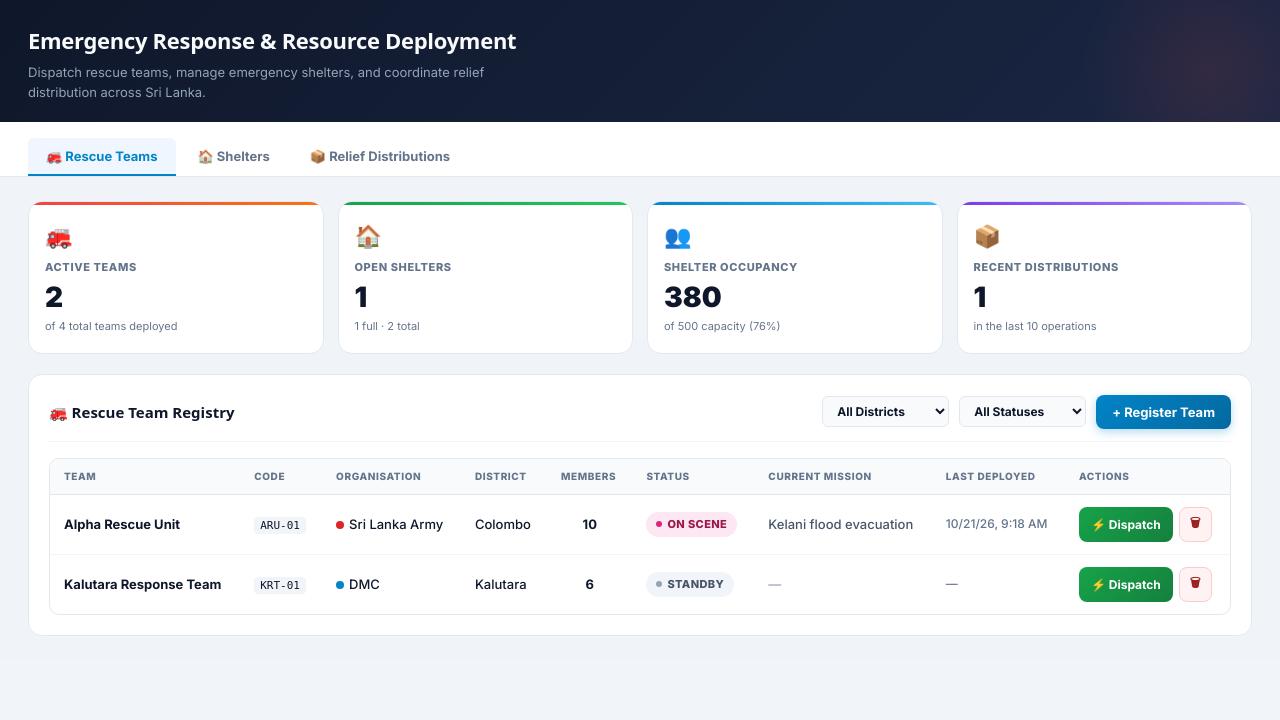
Scenario: EmergencyCoordinationDashboard – Modals › TC-EC-08: Clicking "+ Register Team" opens add team modal
The width and height of the screenshot is (1280, 720).
Check: the text "Alpha Rescue Unit" is shown, box top-left (50, 494), bottom-right (240, 554)
Click the button "+ Register Team": (1164, 412) top-left (1096, 395), bottom-right (1231, 429)
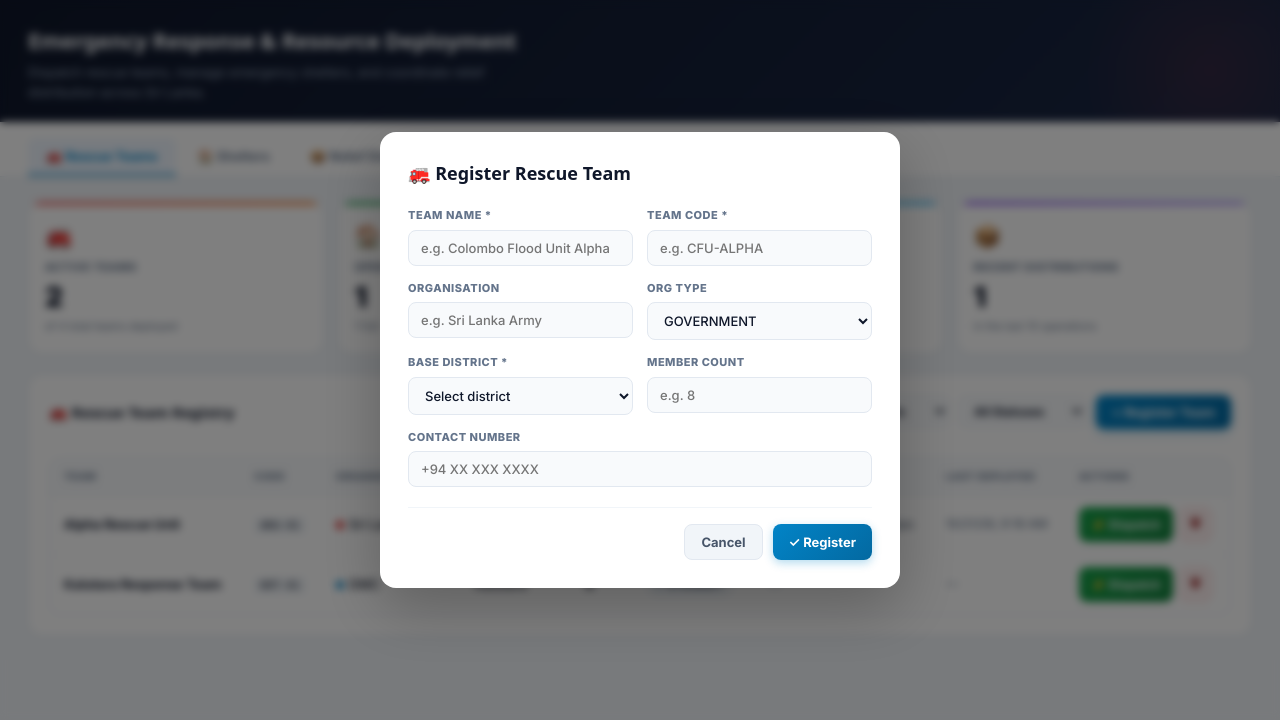
Check: the heading "🚒 Register Rescue Team" is shown, box top-left (408, 161), bottom-right (631, 185)
